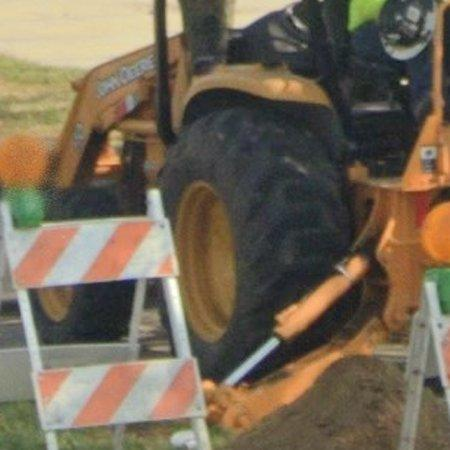tractors: (42, 0, 450, 429)
